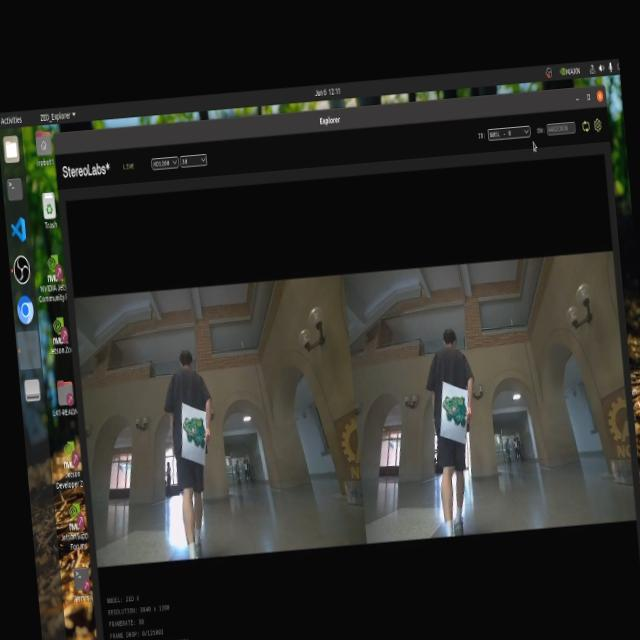green: (444, 388, 476, 434), (182, 406, 206, 442)
